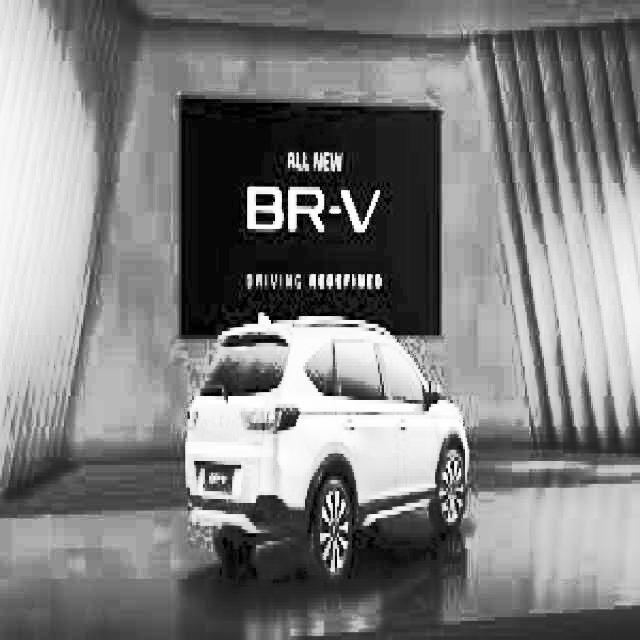Car: (178, 297, 478, 589)
